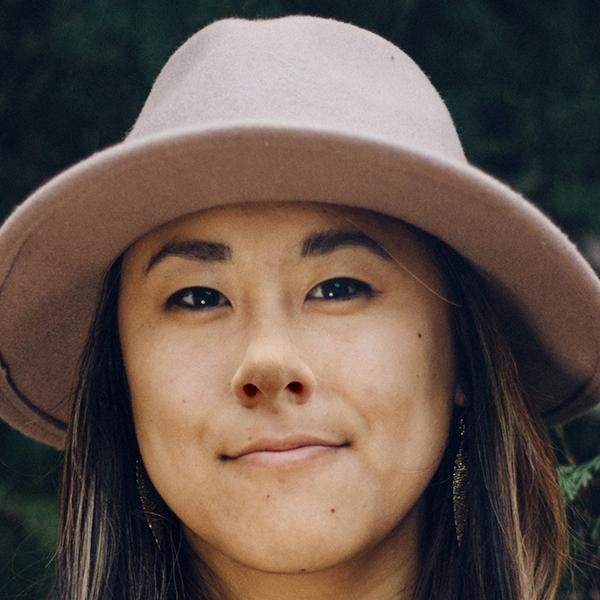Eyes: (296, 262, 388, 323), (152, 269, 240, 330)
